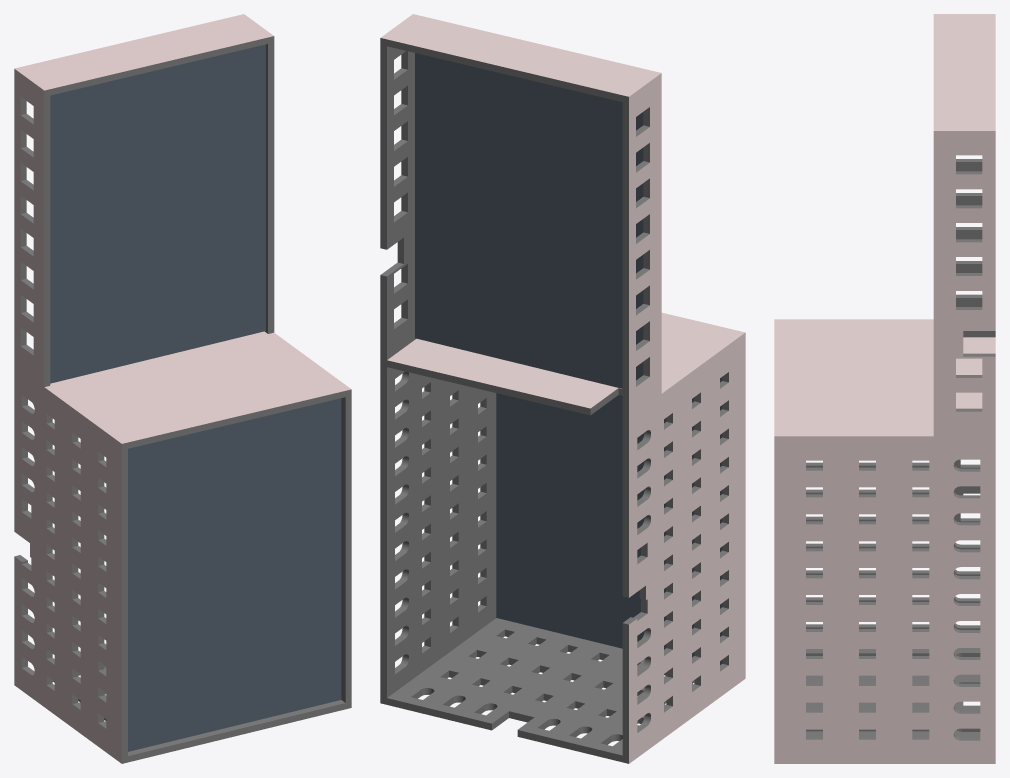
The model's file is michiganAve.obj.
3 renders of one model, left to right at view 1: azimuth 30°, elevation 25°; view 2: azimuth 150°, elevation 25°; view 3: azimuth 270°, elevation 25°, orthographic. The views are drawn at different scales.
Visible parts, largest first — view 1: Generic - 12":1, Generic - 12", Exterior - Brick on CMU Michigan YMCA, Exterior - Brick on CMU Michigan YMCA:3, Exterior - Brick on CMU Michigan YMCA:4, Exterior - Brick on CMU Michigan YMCA:6, Exterior - Brick on CMU Michigan YMCA:2, Exterior - Brick on CMU Michigan YMCA:5, Exterior - Brick on CMU Michigan YMCA:1; view 2: Generic - 12", Exterior - Brick on CMU Michigan YMCA, Exterior - Brick on CMU Michigan YMCA:2, Generic - 12":1, Exterior - Brick on CMU Michigan YMCA:1, Exterior - Brick on CMU Michigan YMCA:4, Exterior - Brick on CMU Michigan YMCA:3, Exterior - Brick on CMU Michigan YMCA:5, Exterior - Brick on CMU Michigan YMCA:6; view 3: Exterior - Brick on CMU Michigan YMCA:2, Exterior - Brick on CMU Michigan YMCA:3, Exterior - Brick on CMU Michigan YMCA:5, Exterior - Brick on CMU Michigan YMCA:6, Exterior - Brick on CMU Michigan YMCA:1, Exterior - Brick on CMU Michigan YMCA, Exterior - Brick on CMU Michigan YMCA:4.
Boxes of the visible parts, box(x1,y1,x2,y2) form: Generic - 12":1: box(128, 398, 341, 751); Generic - 12": box(50, 44, 265, 383); Exterior - Brick on CMU Michigan YMCA: box(14, 368, 127, 763); Exterior - Brick on CMU Michigan YMCA:3: box(50, 331, 345, 448); Exterior - Brick on CMU Michigan YMCA:4: box(14, 67, 50, 389); Exterior - Brick on CMU Michigan YMCA:6: box(20, 15, 267, 95); Exterior - Brick on CMU Michigan YMCA:2: box(268, 332, 351, 702); Exterior - Brick on CMU Michigan YMCA:5: box(238, 14, 274, 333); Exterior - Brick on CMU Michigan YMCA:1: box(52, 665, 351, 762); Generic - 12": box(415, 53, 643, 388); Exterior - Brick on CMU Michigan YMCA: box(622, 331, 745, 763); Exterior - Brick on CMU Michigan YMCA:2: box(380, 358, 496, 697); Generic - 12":1: box(496, 377, 722, 664); Exterior - Brick on CMU Michigan YMCA:1: box(380, 618, 694, 762); Exterior - Brick on CMU Michigan YMCA:4: box(622, 71, 661, 420); Exterior - Brick on CMU Michigan YMCA:3: box(387, 312, 738, 415); Exterior - Brick on CMU Michigan YMCA:5: box(380, 14, 419, 359); Exterior - Brick on CMU Michigan YMCA:6: box(387, 15, 654, 101); Exterior - Brick on CMU Michigan YMCA:2: box(774, 433, 995, 757); Exterior - Brick on CMU Michigan YMCA:3: box(774, 322, 995, 432); Exterior - Brick on CMU Michigan YMCA:5: box(933, 128, 995, 436); Exterior - Brick on CMU Michigan YMCA:6: box(933, 17, 995, 127); Exterior - Brick on CMU Michigan YMCA:1: box(774, 648, 995, 763); Exterior - Brick on CMU Michigan YMCA: box(774, 319, 995, 629); Exterior - Brick on CMU Michigan YMCA:4: box(933, 14, 995, 306).
Size of the model in its own units: 61.62 by 158 by 50.
